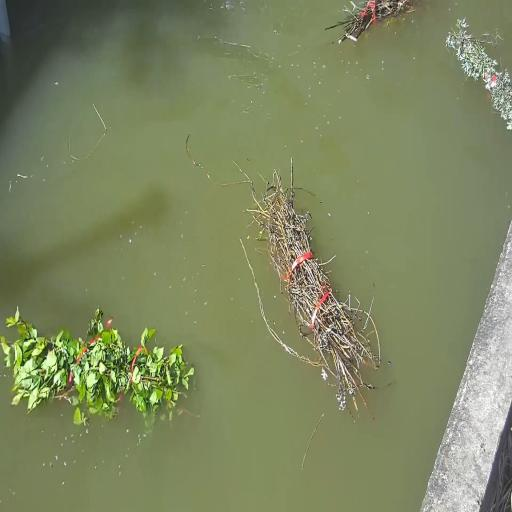twig: (247, 158, 380, 411), (0, 309, 194, 418), (445, 18, 512, 130), (325, 0, 414, 43), (11, 393, 22, 404)
